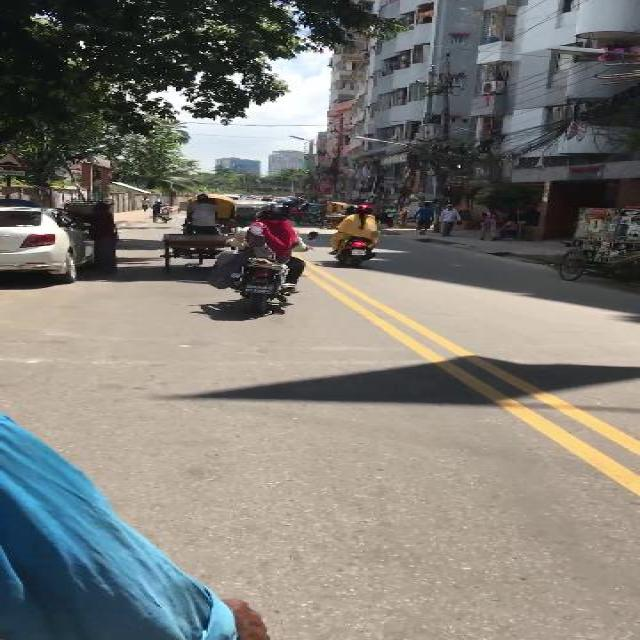car: (0, 204, 94, 283)
motorbike: (207, 203, 309, 314), (328, 204, 380, 266)
rickshaw: (159, 192, 236, 276)
